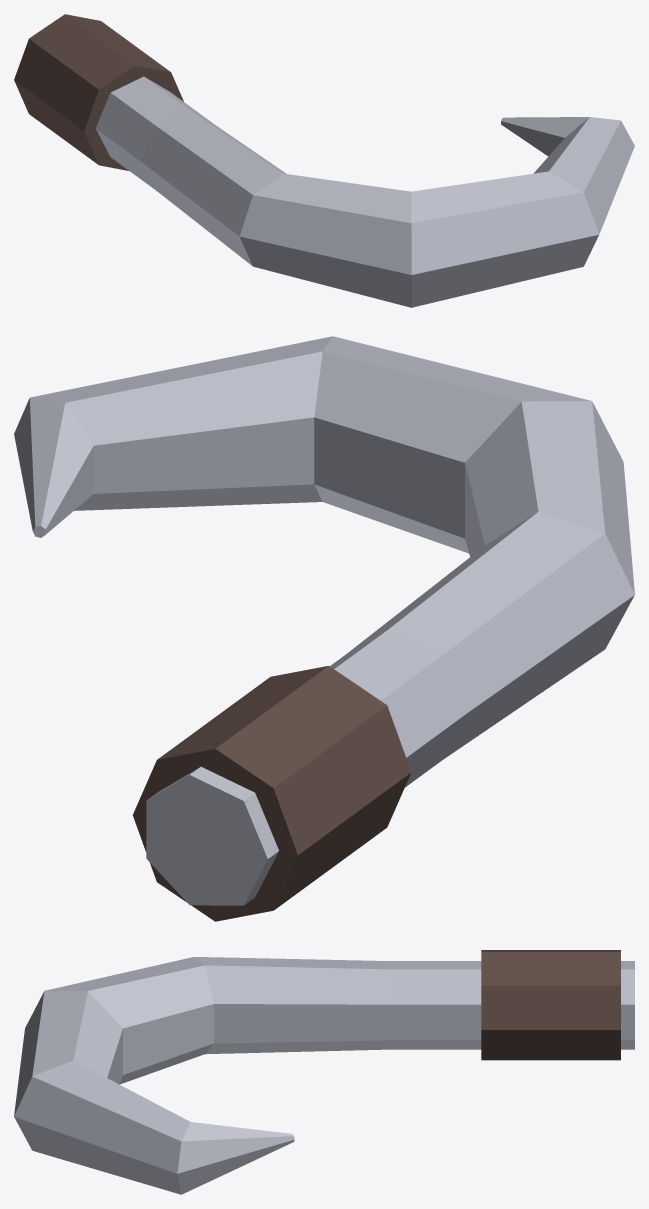
The model's file is hook.glb.
3 renders of one model, top to bottom at view 1: azimuth 30°, elevation 25°; view 2: azimuth 150°, elevation 25°; view 3: azimuth 270°, elevation 25°, orthographic. The views are drawn at different scales.
Parts seen in each view (by area): view 1: RF_Hook_Mesh_Asset; view 2: RF_Hook_Mesh_Asset; view 3: RF_Hook_Mesh_Asset.
Part boxes in pixels (bbox=[...]): RF_Hook_Mesh_Asset: bbox=[14, 14, 634, 307]; RF_Hook_Mesh_Asset: bbox=[14, 336, 634, 921]; RF_Hook_Mesh_Asset: bbox=[14, 950, 634, 1194].
Size of the model in its own units: 0.6557 by 0.168 by 0.8896.
